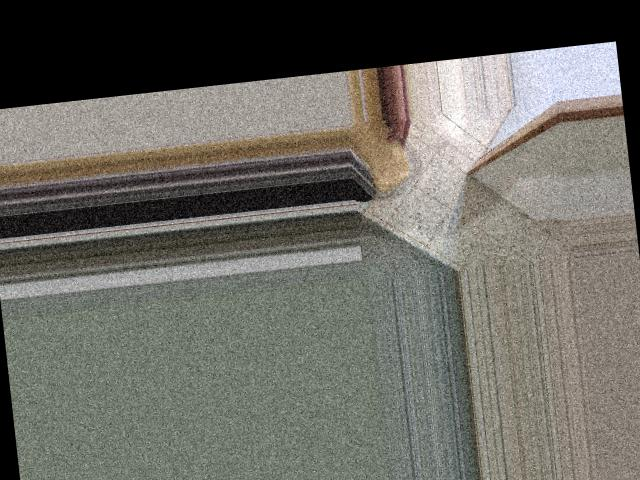cheese: (345, 115, 423, 200)
